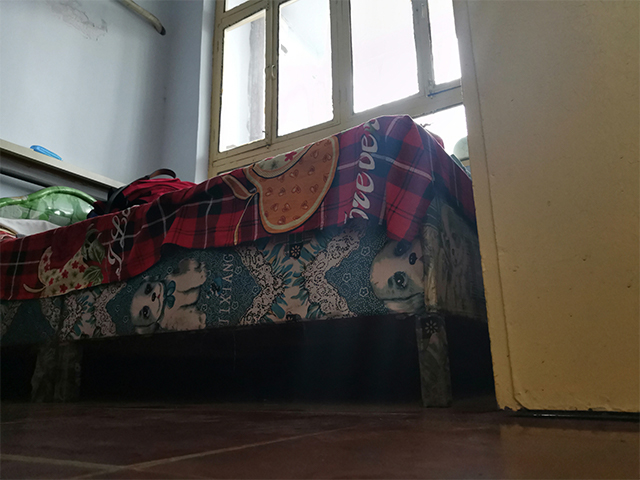bed: (1, 110, 486, 410)
